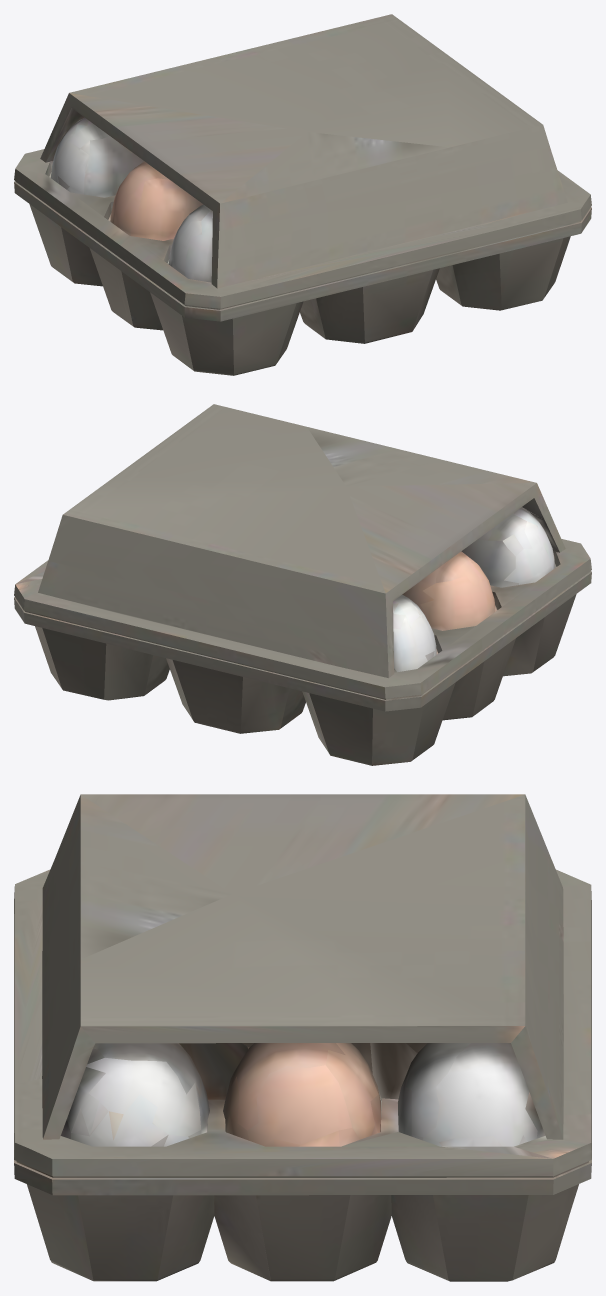
File: eggs.glb
The picture shows the model from 3 angles, top to bottom: view 1: azimuth 30°, elevation 25°; view 2: azimuth 150°, elevation 25°; view 3: azimuth 270°, elevation 25°; orthographic projection. The views are drawn at different scales.
Visible parts, largest first — view 1: node_0; view 2: node_0; view 3: node_0.
Part boxes in pixels (<box>): node_0: <box>14,14,591,375</box>; node_0: <box>14,404,591,765</box>; node_0: <box>14,794,591,1281</box>.
Bounding box in the file's own units: 0.8 × 0.3121 × 0.6685.
Materials: 1 (1 with a texture image).
